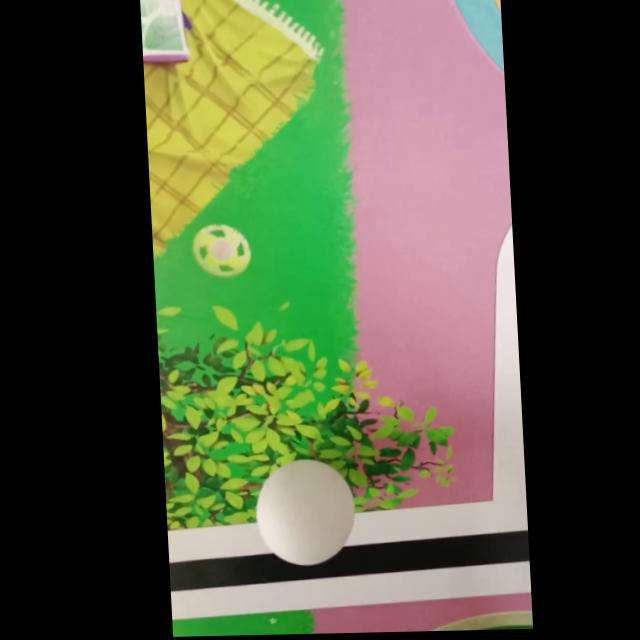white ball: (252, 457, 358, 567)
